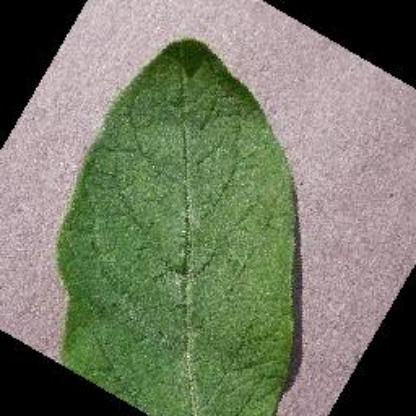Healthy-plant: (52, 32, 308, 416)
